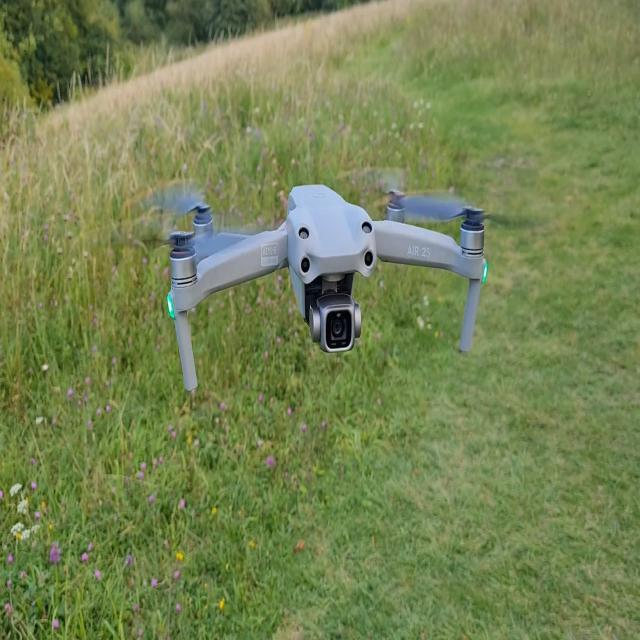drone: (113, 181, 489, 393)
